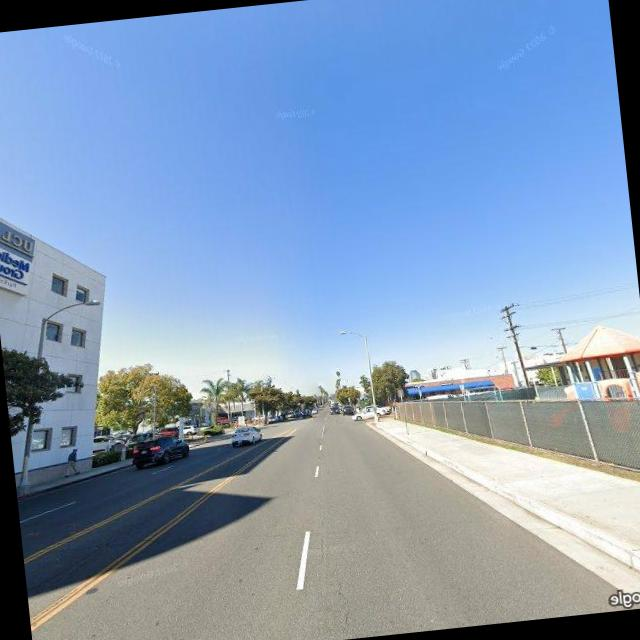pothole: (315, 527, 362, 638)
